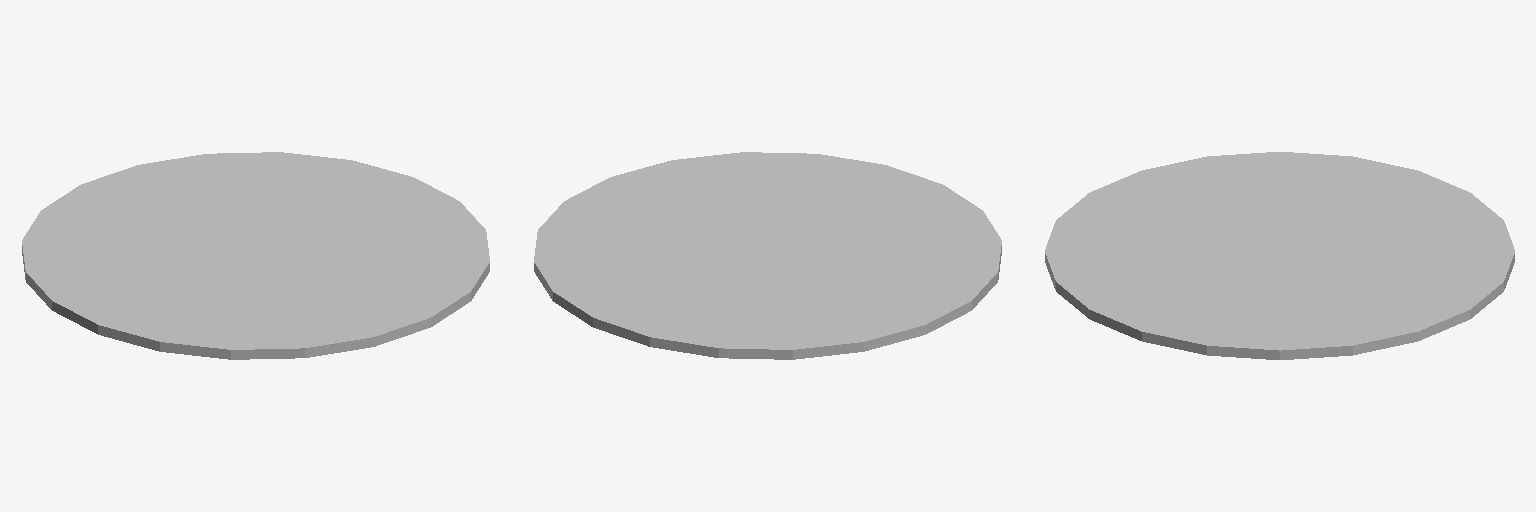
The model's file is Dais.obj.
3 views of the same model, side by side, from view 1: azimuth 30°, elevation 25°; view 2: azimuth 150°, elevation 25°; view 3: azimuth 270°, elevation 25° (orthographic).
Parts seen in each view (by area): view 1: pCylinder1; view 2: pCylinder1; view 3: pCylinder1.
Boxes of the visible parts, <box> form: pCylinder1: <box>22,152,489,359</box>; pCylinder1: <box>534,152,1001,359</box>; pCylinder1: <box>1045,152,1514,359</box>.
Size of the model in its own units: 10.19 by 0.2361 by 10.19.